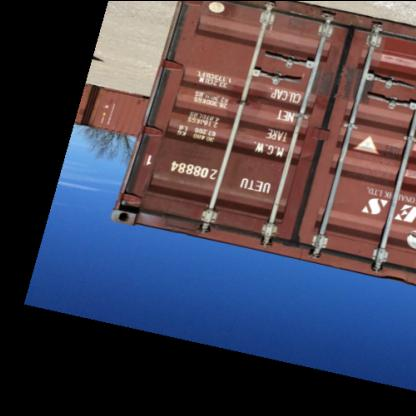Damage: (291, 64, 384, 107), (162, 131, 217, 173), (374, 262, 414, 288), (115, 197, 137, 228), (293, 143, 317, 169)
